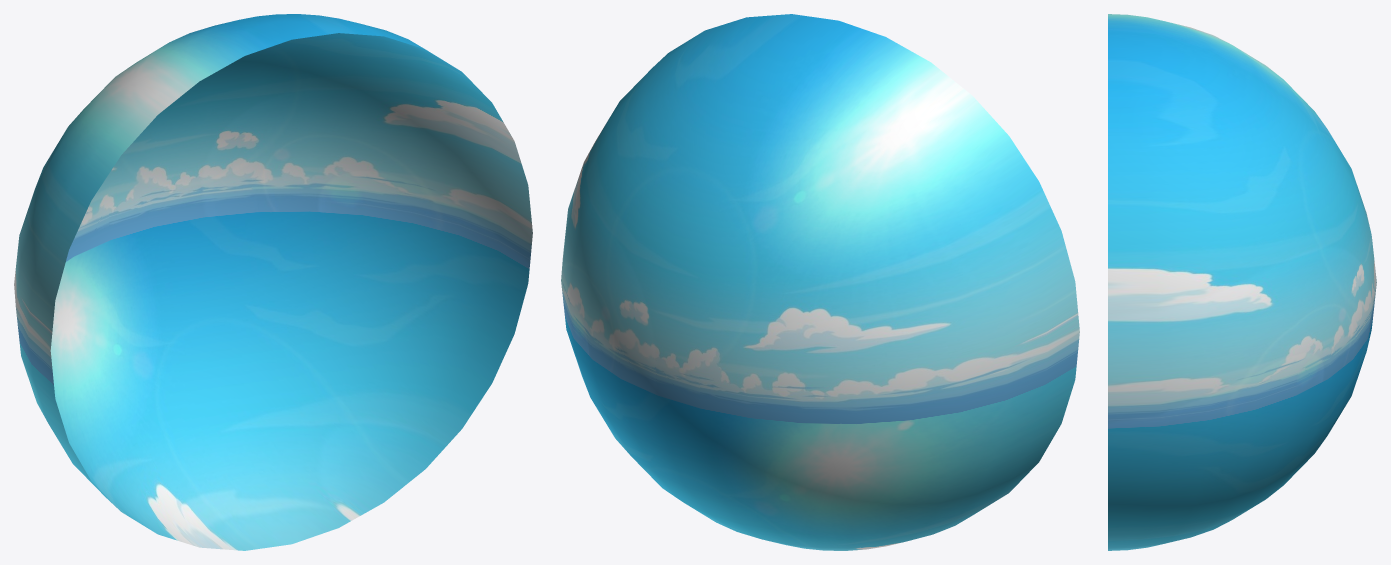
The model's file is sky.glb.
The picture shows the model from 3 angles, left to right: view 1: azimuth 30°, elevation 25°; view 2: azimuth 150°, elevation 25°; view 3: azimuth 270°, elevation 25°; orthographic projection. The views are drawn at different scales.
Parts seen in each view (by area): view 1: Sphere; view 2: Sphere; view 3: Sphere.
Part boxes in pixels (bbox=[...]): Sphere: bbox=[14, 14, 532, 550]; Sphere: bbox=[561, 14, 1079, 550]; Sphere: bbox=[1108, 14, 1376, 550].
Bounding box in the file's own units: 85.63 × 85.63 × 42.81.
Materials: 1 (1 with a texture image).
